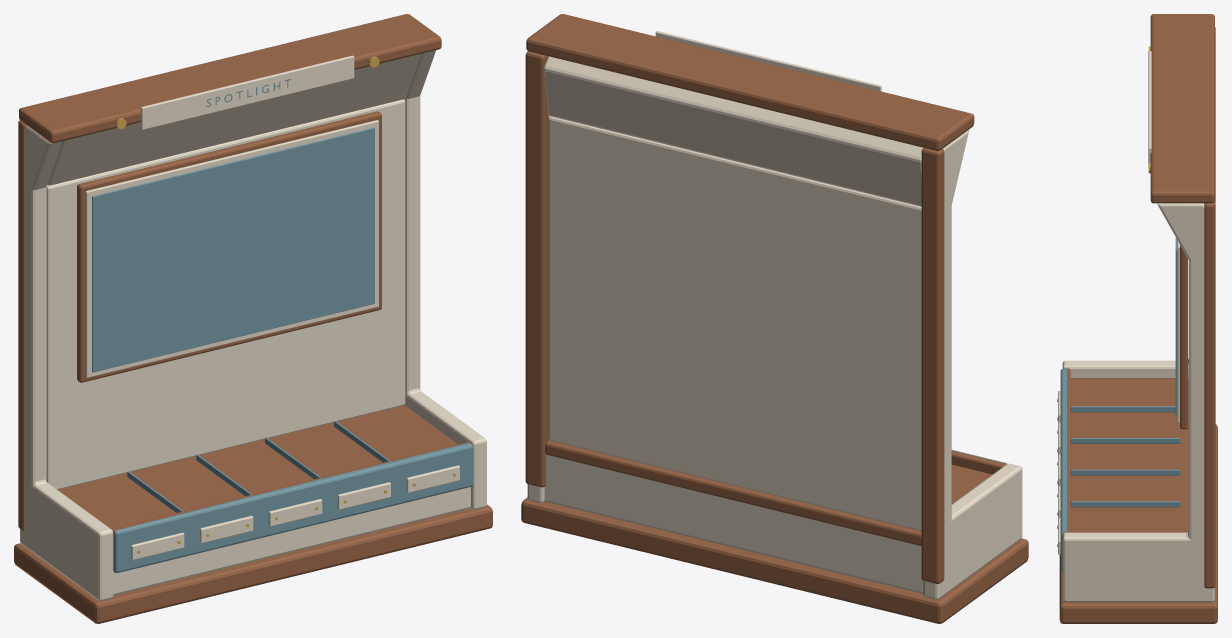
Rendered from CozyGamingShelf_v03.fbx.
3 renders of one model, left to right at view 1: azimuth 30°, elevation 25°; view 2: azimuth 150°, elevation 25°; view 3: azimuth 270°, elevation 25°, orthographic. The views are drawn at different scales.
Visible parts, largest first — view 1: CGS03_Poster_Replaceable_Surface, CGS03_Cream_Upright_Back, CGS03_Oak_Tray_Deck, CGS03_Cream_Shaped_Side_-1, CGS03_Oak_Header_Crown, CGS03_Cream_Angled_Header, CGS03_Blue_Tray_Front, CGS03_Oak_Plinth, CGS03_Cream_Shaped_Side_1, CGS03_Cream_Tray_Cabinet, CGS03_Oak_Poster_Frame_Back, CGS03_Cream_Poster_Mat (+8 smaller); view 2: CGS03_Cream_Upright_Back, CGS03_Cream_Angled_Header, CGS03_Oak_Header_Crown, CGS03_Cream_Tray_Cabinet, CGS03_Oak_Plinth, CGS03_Cream_Shaped_Side_-1, CGS03_Oak_Rear_Post_-1, CGS03_Oak_Rear_Post_1, CGS03_Oak_Tray_Deck, CGS03_Cream_Header_Plaque, CGS03_Oak_Tray_Front_Lip; view 3: CGS03_Cream_Shaped_Side_1, CGS03_Oak_Tray_Deck, CGS03_Oak_Header_Crown, CGS03_Oak_Rear_Post_1, CGS03_Oak_Plinth, CGS03_Cream_Shaped_Side_-1, CGS03_Oak_Poster_Frame_Back, CGS03_Blue_Tray_Front, CGS03_Blue_Lane_Divider_3, CGS03_Blue_Lane_Divider_4, CGS03_Blue_Lane_Divider_1, CGS03_Oak_Tray_Front_Lip (+4 smaller).
Boxes of the visible parts, x1,y1,x2,y2 form: CGS03_Poster_Replaceable_Surface: [92, 127, 374, 372]; CGS03_Cream_Upright_Back: [46, 99, 405, 489]; CGS03_Oak_Tray_Deck: [58, 405, 457, 528]; CGS03_Cream_Shaped_Side_-1: [20, 125, 113, 600]; CGS03_Oak_Header_Crown: [19, 14, 441, 143]; CGS03_Cream_Angled_Header: [47, 53, 421, 185]; CGS03_Blue_Tray_Front: [113, 443, 473, 572]; CGS03_Oak_Plinth: [14, 504, 492, 623]; CGS03_Cream_Shaped_Side_1: [404, 50, 486, 509]; CGS03_Cream_Tray_Cabinet: [113, 487, 470, 595]; CGS03_Oak_Poster_Frame_Back: [77, 111, 381, 382]; CGS03_Cream_Poster_Mat: [85, 120, 378, 377]; CGS03_Cream_Upright_Back: [548, 116, 921, 531]; CGS03_Cream_Angled_Header: [544, 56, 923, 206]; CGS03_Oak_Header_Crown: [526, 14, 974, 150]; CGS03_Cream_Tray_Cabinet: [544, 454, 923, 593]; CGS03_Oak_Plinth: [521, 497, 1028, 623]; CGS03_Cream_Shaped_Side_-1: [923, 130, 1022, 599]; CGS03_Oak_Rear_Post_-1: [921, 148, 944, 583]; CGS03_Oak_Rear_Post_1: [525, 51, 548, 487]; CGS03_Oak_Tray_Deck: [545, 440, 992, 545]; CGS03_Cream_Header_Plaque: [655, 31, 881, 91]; CGS03_Oak_Tray_Front_Lip: [951, 450, 1006, 474]; CGS03_Cream_Shaped_Side_1: [1062, 203, 1214, 602]; CGS03_Oak_Tray_Deck: [1070, 378, 1188, 532]; CGS03_Oak_Header_Crown: [1150, 14, 1214, 203]; CGS03_Oak_Rear_Post_1: [1204, 199, 1215, 588]; CGS03_Oak_Plinth: [1059, 424, 1217, 623]; CGS03_Cream_Shaped_Side_-1: [1062, 359, 1188, 377]; CGS03_Oak_Poster_Frame_Back: [1180, 245, 1187, 429]; CGS03_Blue_Tray_Front: [1060, 368, 1066, 571]; CGS03_Blue_Lane_Divider_3: [1070, 469, 1180, 475]; CGS03_Blue_Lane_Divider_4: [1070, 501, 1180, 507]; CGS03_Blue_Lane_Divider_1: [1070, 406, 1175, 412]; CGS03_Oak_Tray_Front_Lip: [1062, 368, 1070, 533].
Size of the model in its own units: 296 by 328 by 110.
